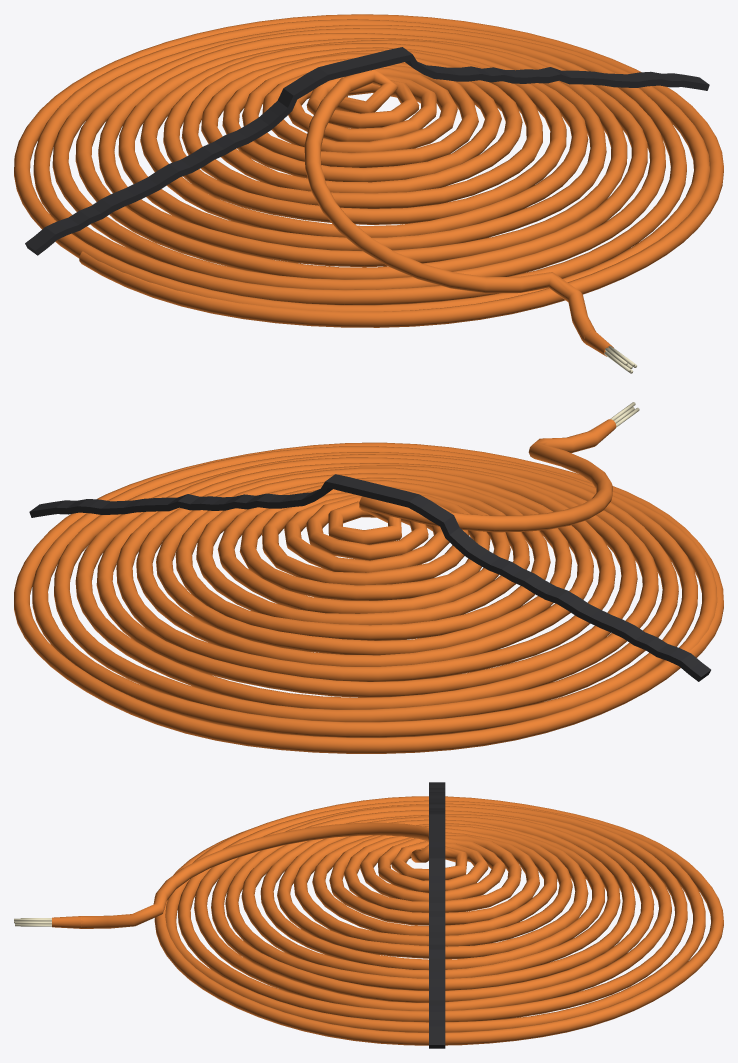
Rendered from rope_coil.fbx.
3 renders of one model, top to bottom at view 1: azimuth 30°, elevation 25°; view 2: azimuth 150°, elevation 25°; view 3: azimuth 270°, elevation 25°, orthographic. The views are drawn at different scales.
Parts seen in each view (by area): view 1: ROPE_Coil, ROPE_TieStrap; view 2: ROPE_Coil, ROPE_TieStrap; view 3: ROPE_Coil, ROPE_TieStrap.
Part boxes in pixels (x1,y1,x2,y2): ROPE_Coil: (14, 14, 723, 344); ROPE_TieStrap: (25, 47, 709, 255); ROPE_Coil: (14, 430, 723, 753); ROPE_TieStrap: (29, 474, 710, 681); ROPE_Coil: (81, 796, 723, 1045); ROPE_TieStrap: (429, 782, 445, 1048).
Bounding box in the file's own units: 0.4577 × 0.079 × 0.5236.
